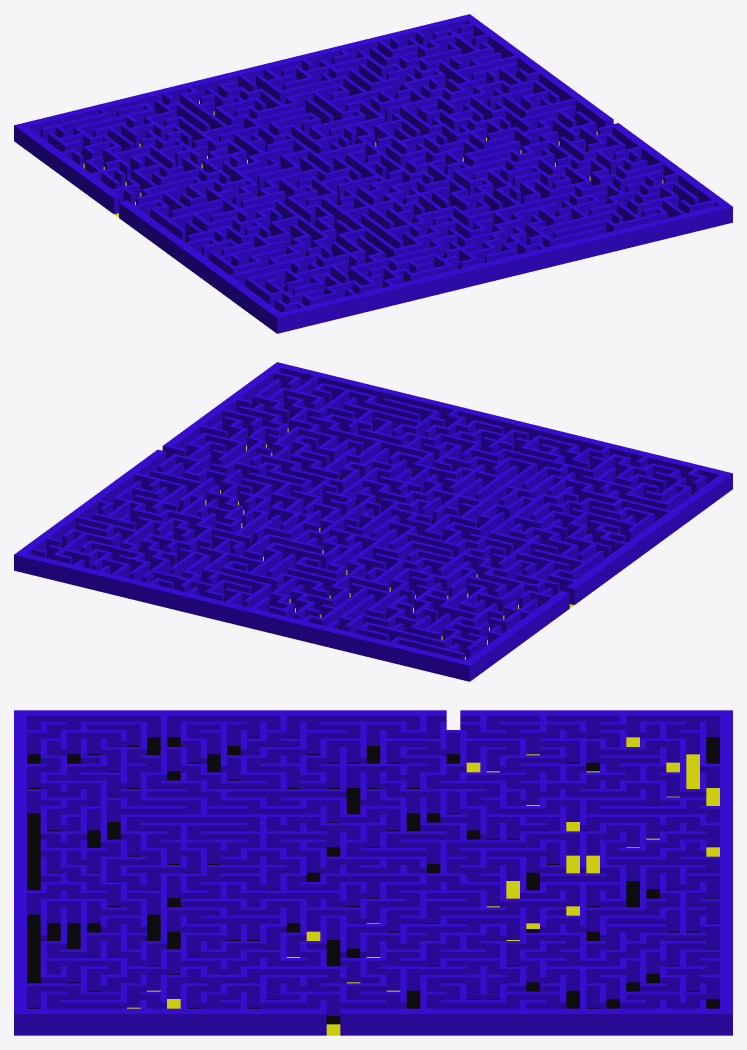
Rendered from MAZE3.fbx.
3 renders of one model, top to bottom at view 1: azimuth 30°, elevation 25°; view 2: azimuth 150°, elevation 25°; view 3: azimuth 270°, elevation 25°, orthographic. The views are drawn at different scales.
Parts seen in each view (by area): view 1: Plane; view 2: Plane; view 3: Plane.
Boxes of the visible parts, left/top/right/bottom form: Plane: left=14, top=14, right=732, bottom=333; Plane: left=14, top=362, right=732, bottom=681; Plane: left=14, top=710, right=732, bottom=1035.
Size of the model in its own units: 2000 by 66.67 by 2000.
